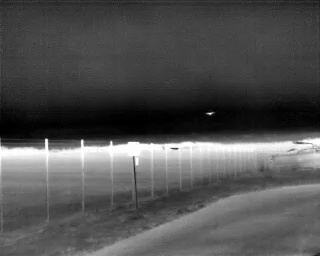AIRPLANE: (204, 109, 216, 118)
